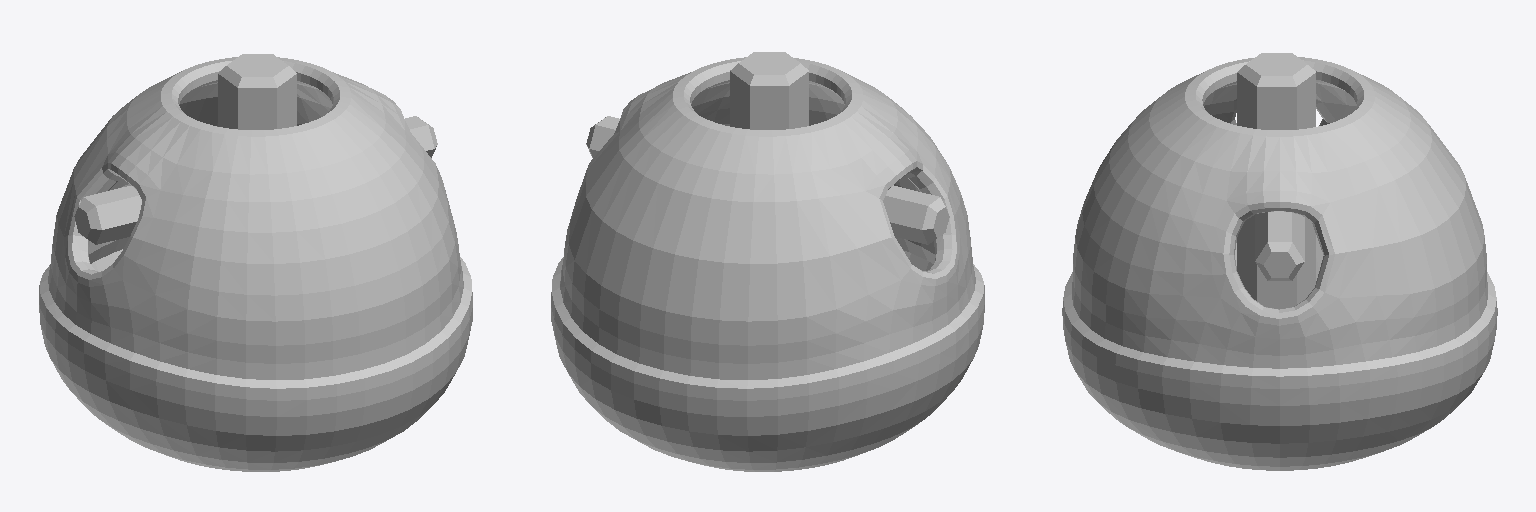
File: torso.obj
3 views of the same model, side by side, from view 1: azimuth 30°, elevation 25°; view 2: azimuth 150°, elevation 25°; view 3: azimuth 270°, elevation 25° (orthographic).
Parts seen in each view (by area): view 1: BalloonBoy.006; view 2: BalloonBoy.006; view 3: BalloonBoy.006.
Boxes of the visible parts, <box> form: BalloonBoy.006: <box>39,54,472,471</box>; BalloonBoy.006: <box>551,52,984,471</box>; BalloonBoy.006: <box>1062,53,1497,470</box>.
Size of the model in its own units: 21.12 by 20.52 by 21.14.